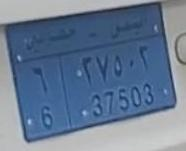city: (18, 58, 68, 139)
number: (61, 37, 176, 130)
text: (11, 6, 162, 59)
